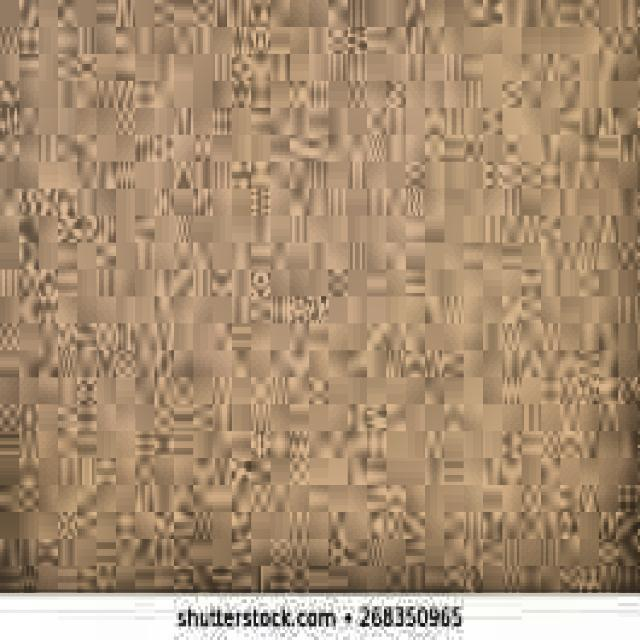cardboard: (0, 0, 637, 589)
